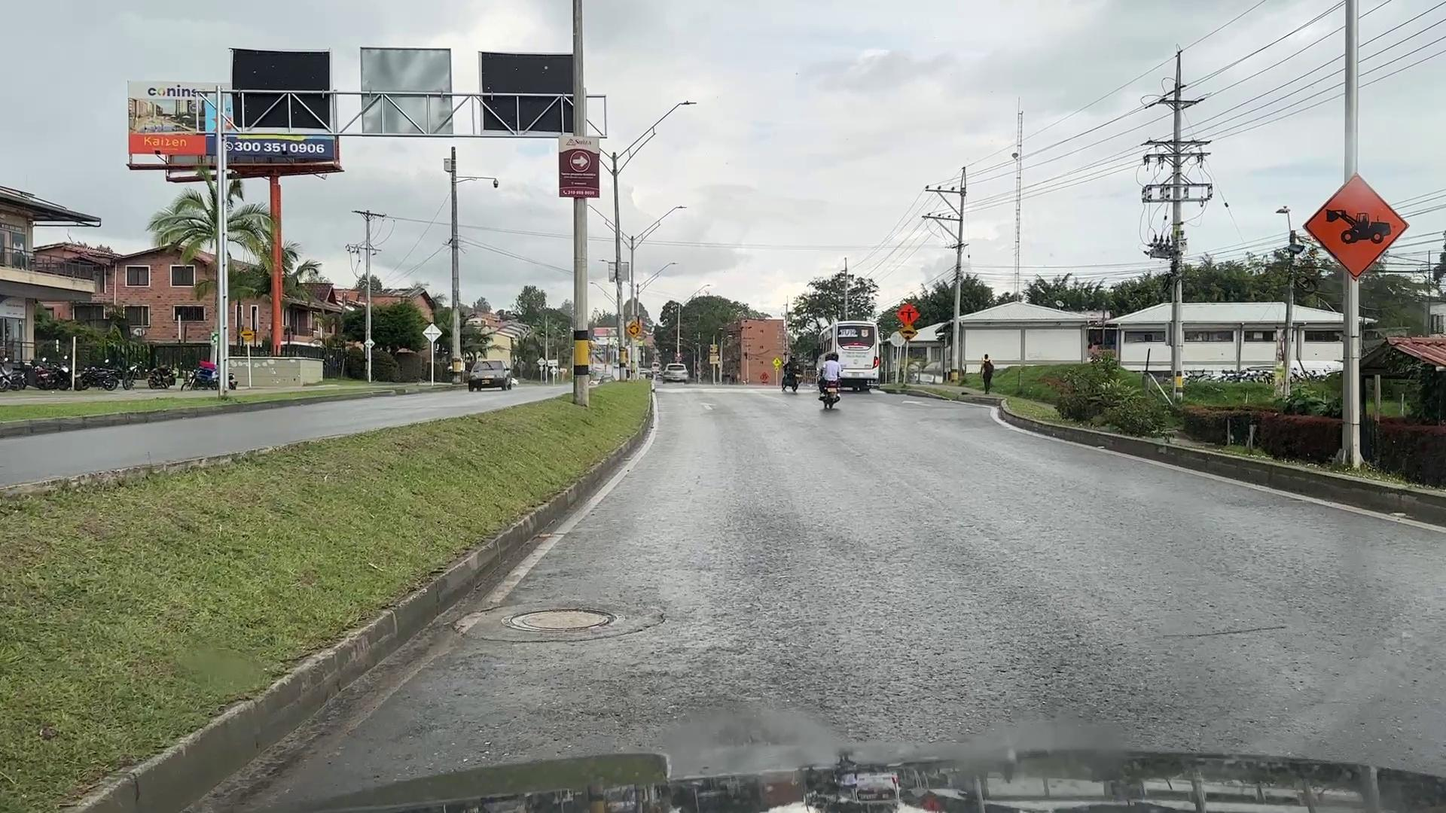registro: (501, 609, 617, 632)
